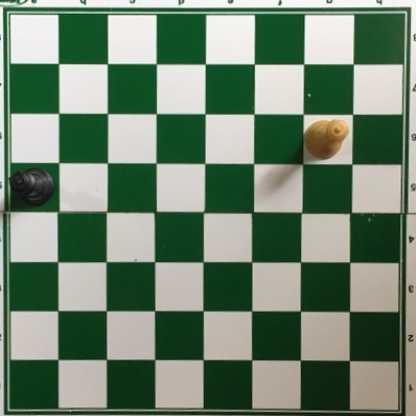black-queen: (6, 168, 56, 207)
white-queen: (305, 118, 349, 160)
